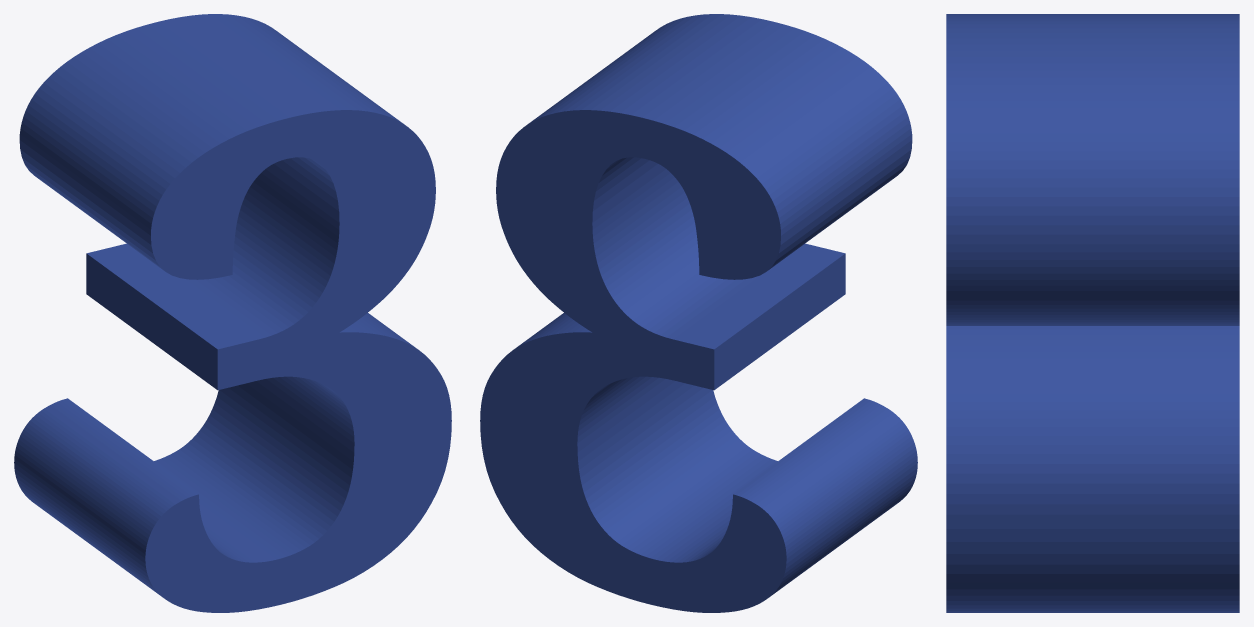
Rendered from tinker.obj.
The picture shows the model from 3 angles, left to right: view 1: azimuth 30°, elevation 25°; view 2: azimuth 150°, elevation 25°; view 3: azimuth 270°, elevation 25°; orthographic projection. The views are drawn at different scales.
Parts seen in each view (by area): view 1: obj_0; view 2: obj_0; view 3: obj_0.
Part boxes in pixels (x1=…): obj_0: x1=14, y1=14, x2=451, y2=612; obj_0: x1=480, y1=14, x2=917, y2=612; obj_0: x1=946, y1=14, x2=1239, y2=612.
Bounding box in the file's own units: 75.41 × 114 × 55.94.
